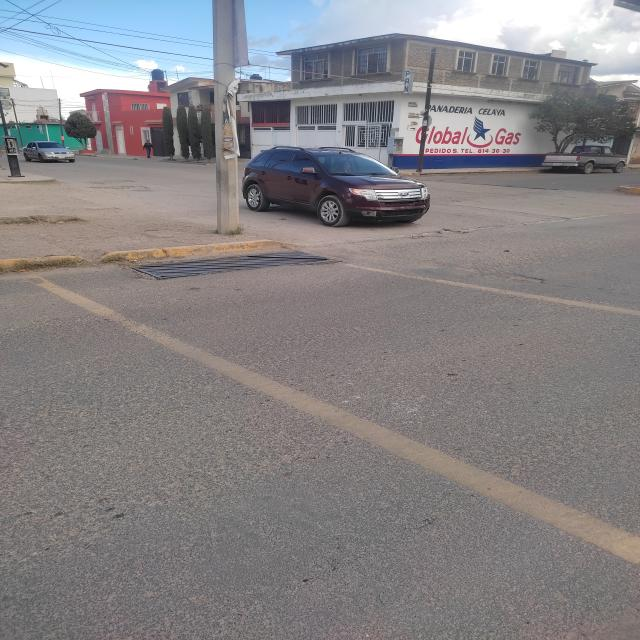3: (137, 137, 167, 163)
Auto: (244, 138, 434, 241), (543, 133, 632, 185), (17, 132, 80, 178)
